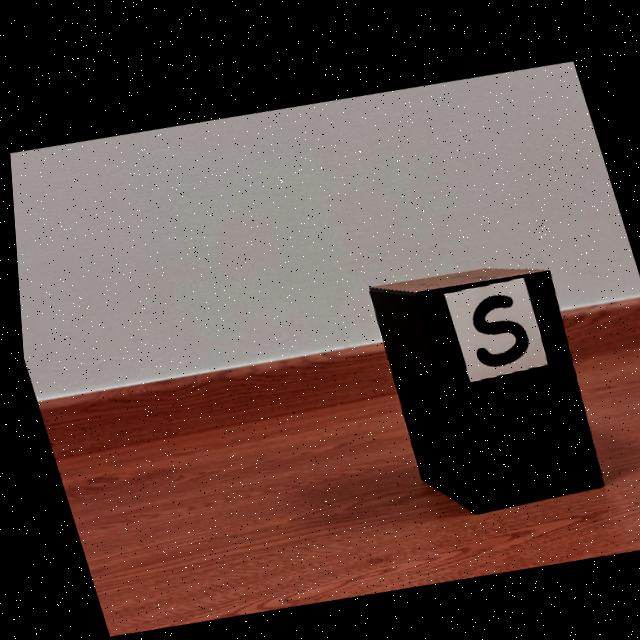S: (469, 285, 525, 357)
